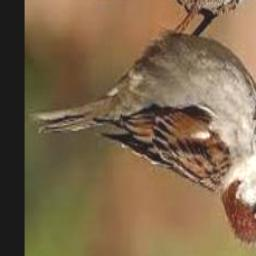Sparrow: (29, 0, 256, 248)
